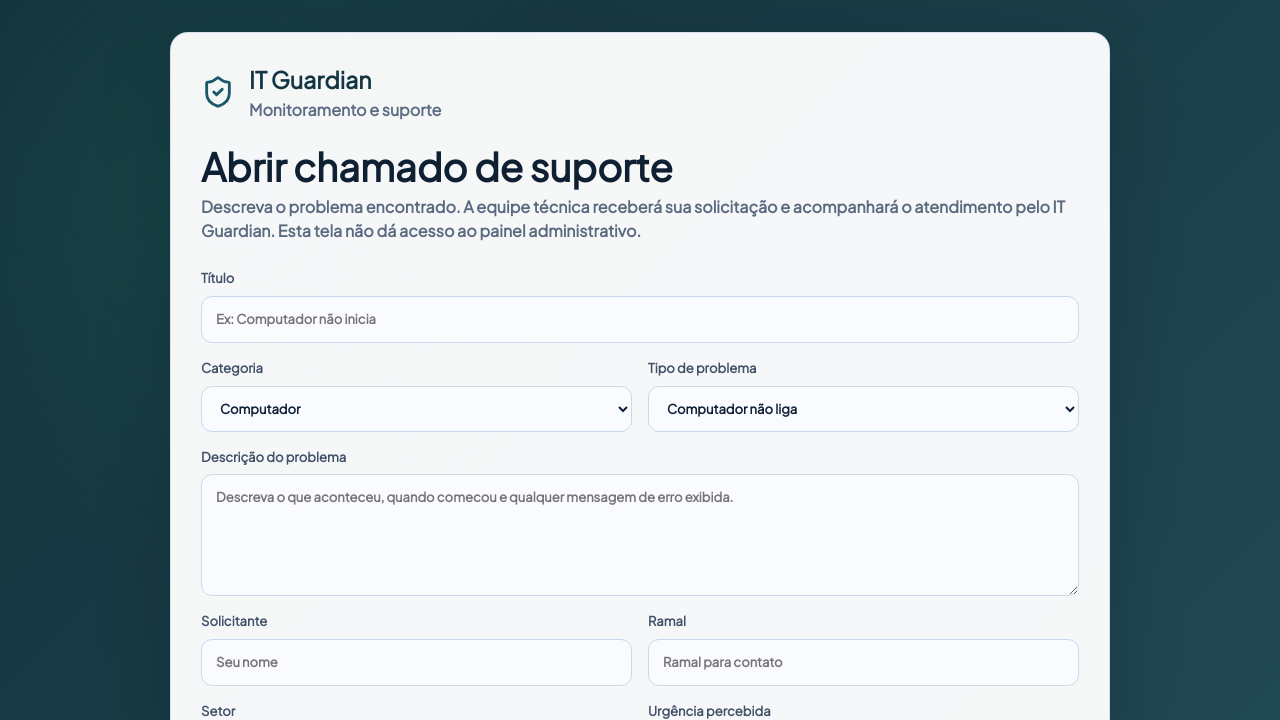
Scenario: PublicSupportRequest - formulario › usa as opcoes padrao quando a API falha ou vem vazia
Check: the dropdown labelled "Tipo de problema" shows "Computador não liga", box [648,386,1079,432]
Select "Impressora" in the dropdown labelled "Categoria" at x=416, y=409, box [201,386,632,432]
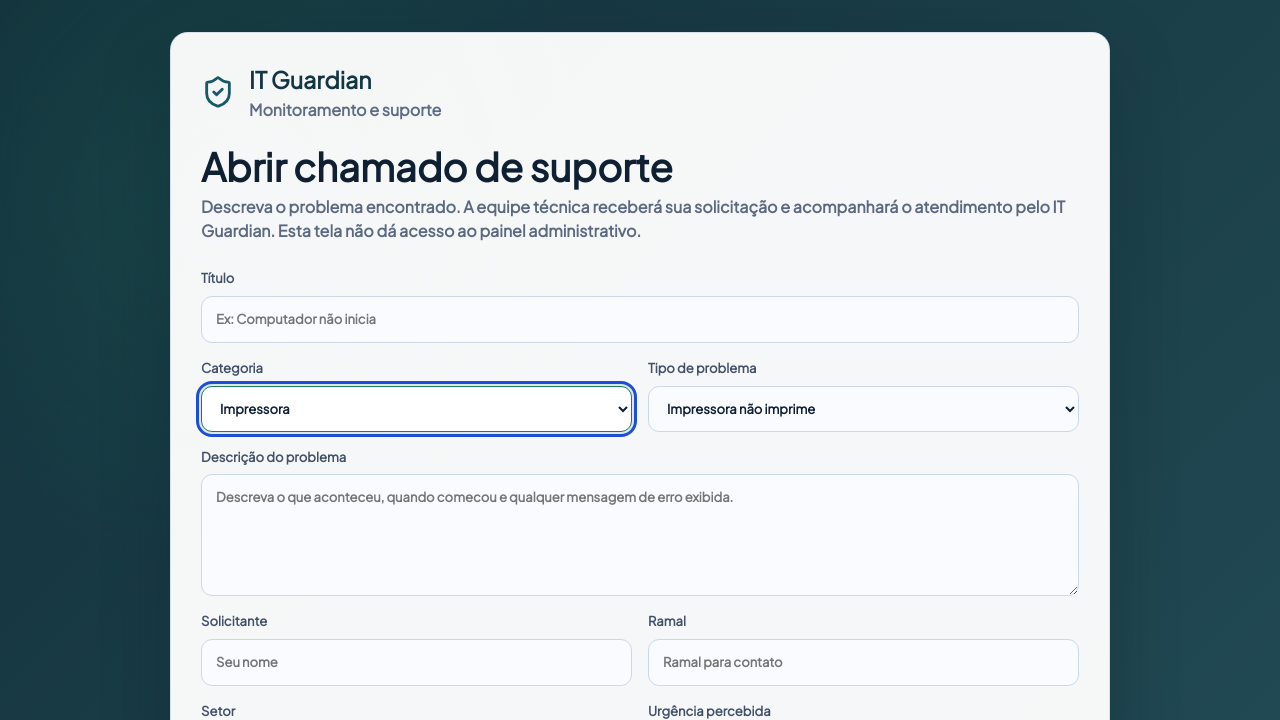
Check: the dropdown labelled "Tipo de problema" shows "Impressora não imprime", box [648,386,1079,432]
